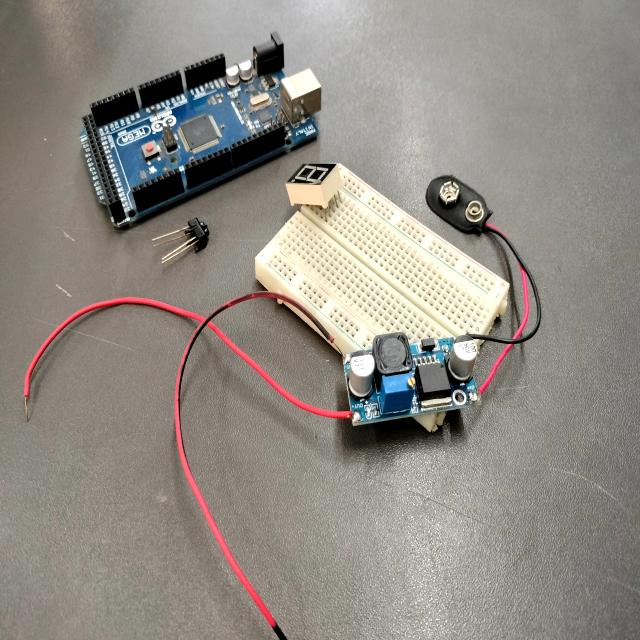7-Segment-Display: (280, 157, 344, 216)
Arduino-Mega: (75, 27, 328, 236)
Breadboard: (249, 159, 515, 378)
Buck-Converter: (329, 325, 492, 438)
TCRT5000: (151, 214, 212, 268)
